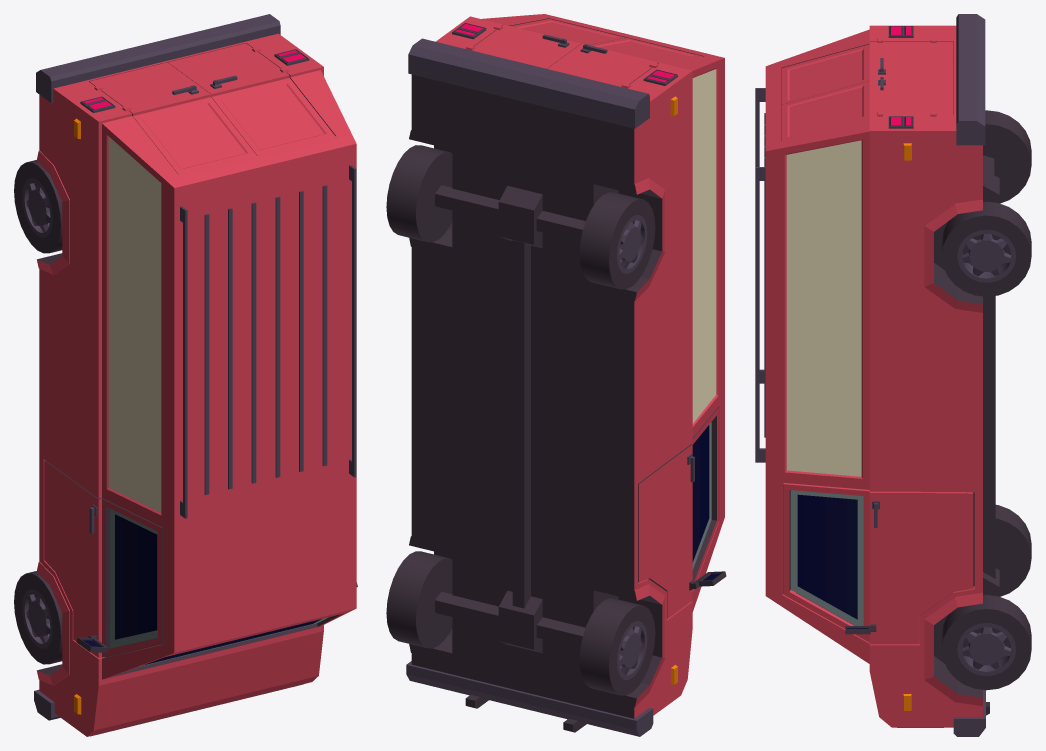
The model's file is 029_car_Van.gltf.
3 renders of one model, left to right at view 1: azimuth 30°, elevation 25°; view 2: azimuth 150°, elevation 25°; view 3: azimuth 270°, elevation 25°, orthographic. The views are drawn at different scales.
Visible parts, largest first — view 1: car_Van; view 2: car_Van; view 3: car_Van.
Part boxes in pixels (box(x1,y1,x2,y2)): car_Van: box(14, 14, 357, 736); car_Van: box(386, 14, 726, 736); car_Van: box(755, 14, 1031, 736).
Bounding box in the file's own units: 2.25 × 5.22 × 2.1.
Materials: 1 (1 with a texture image).
